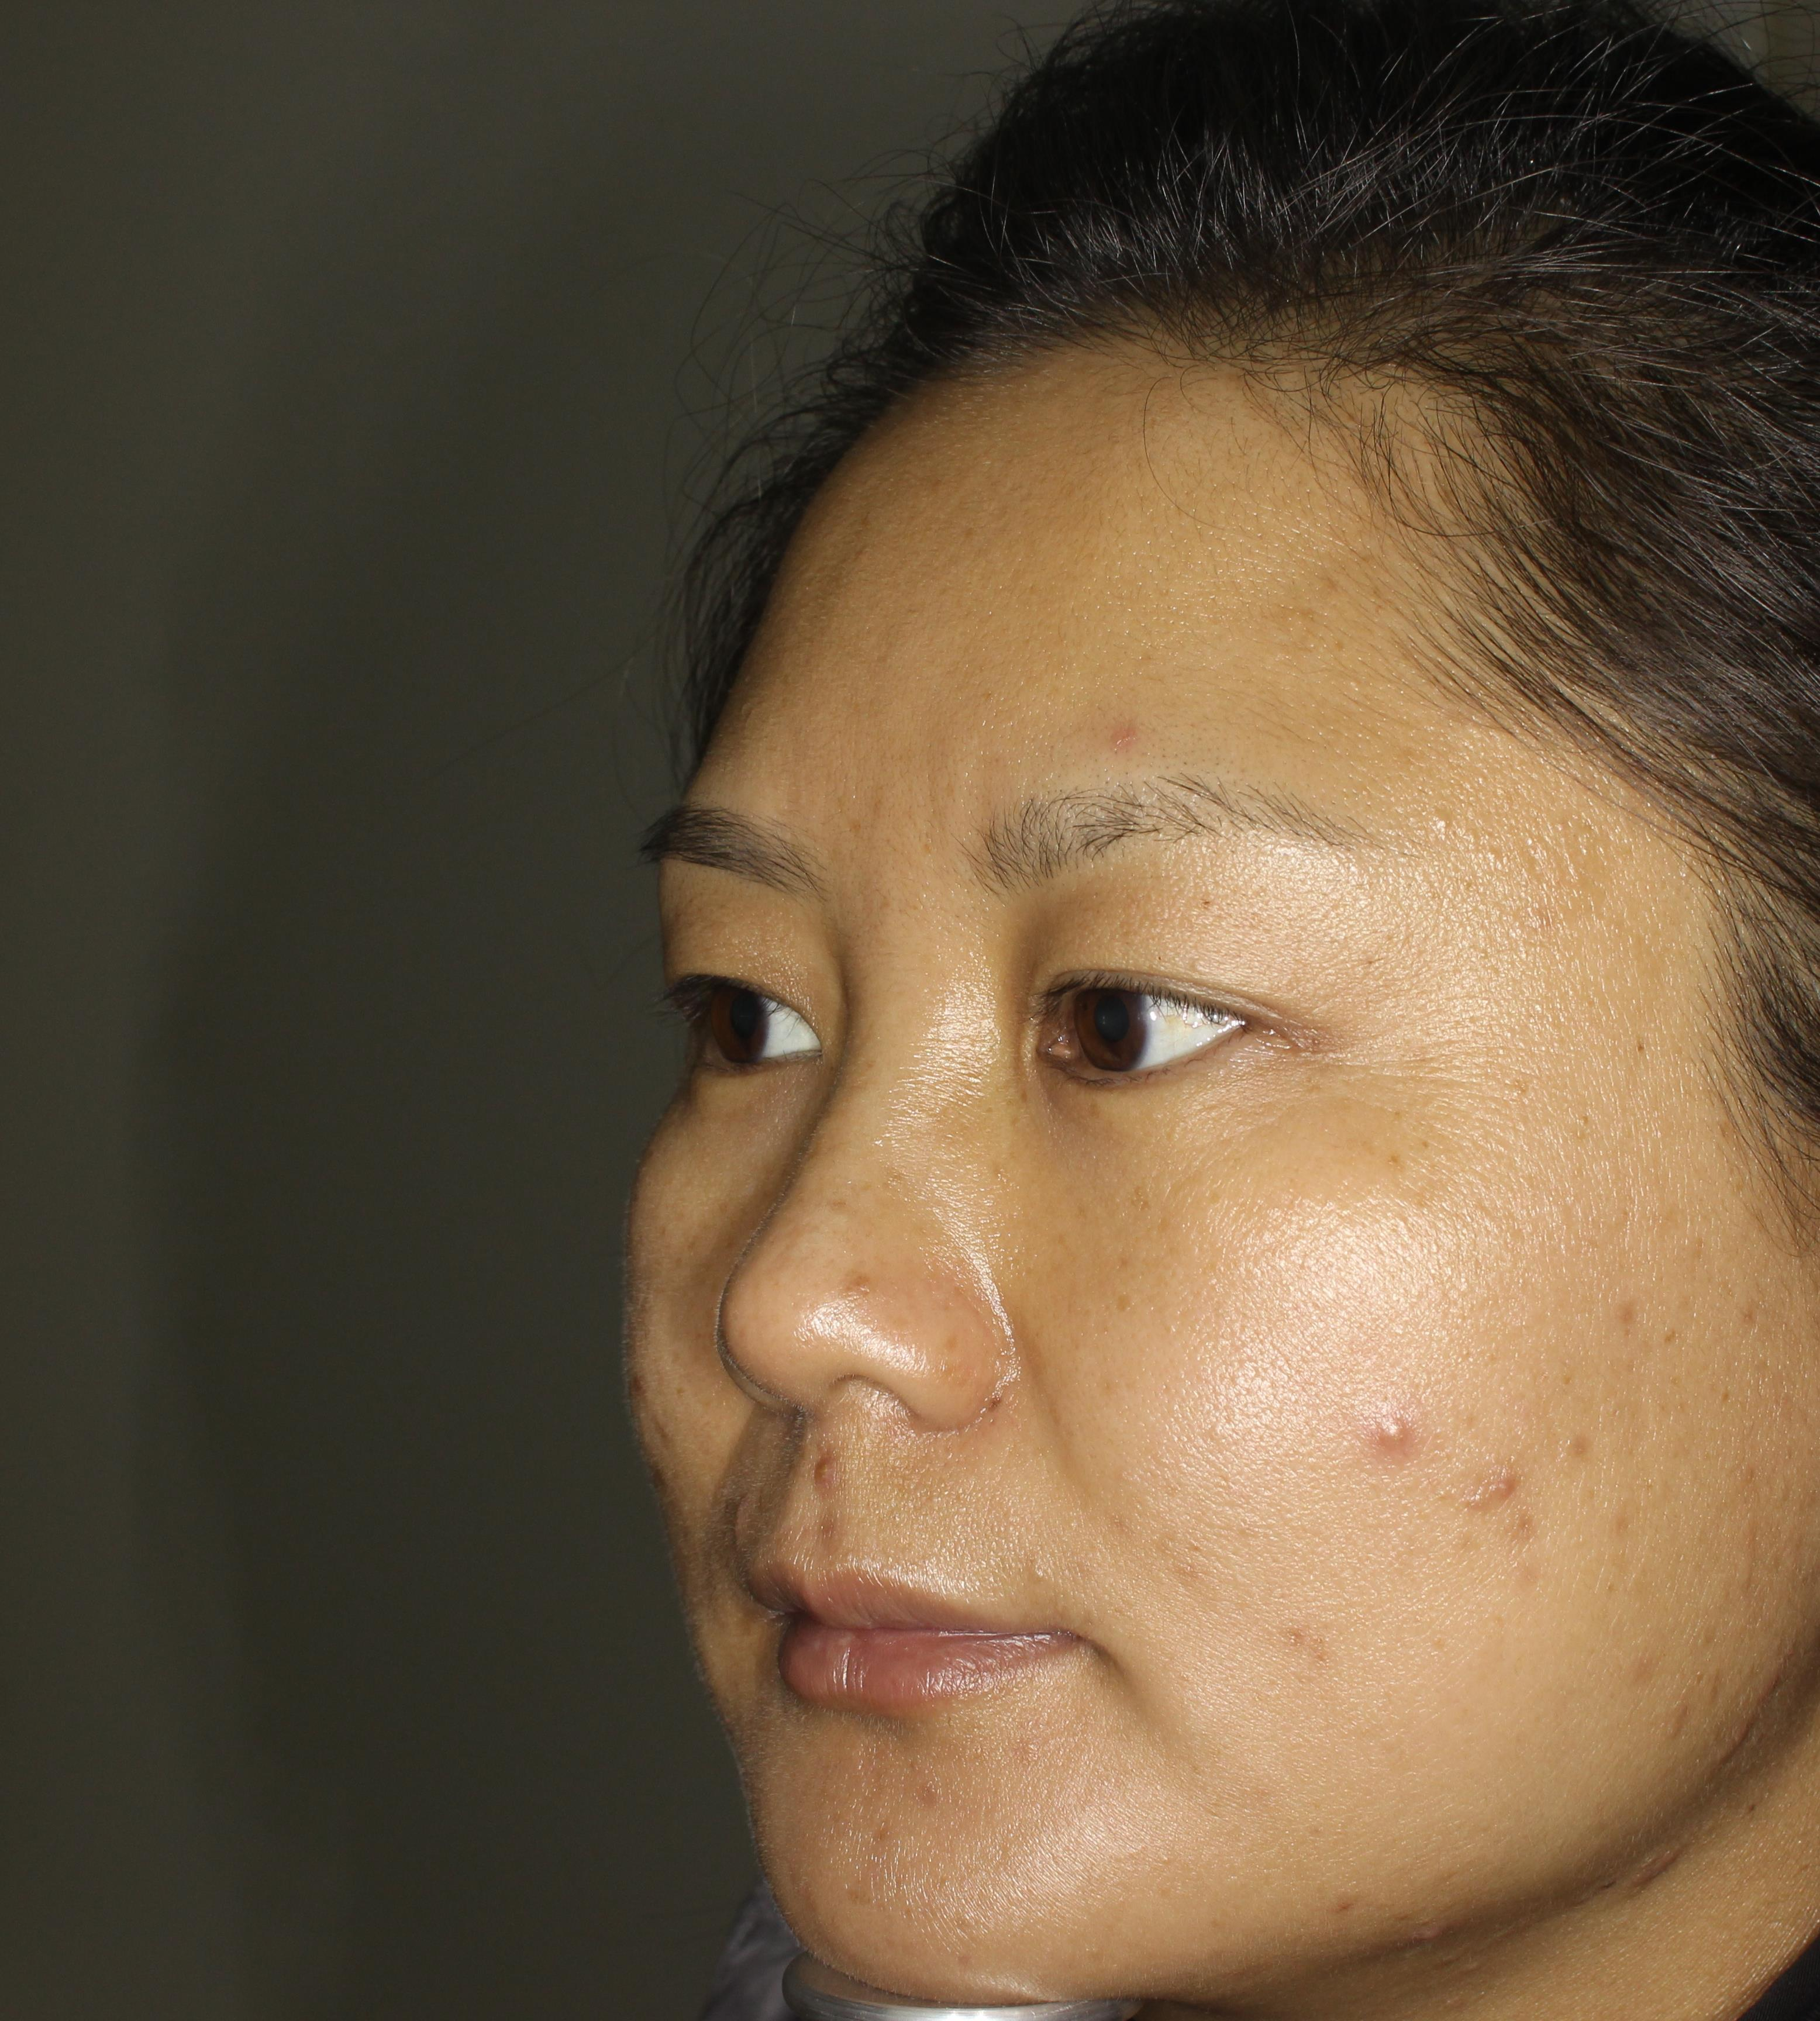fore: (1453, 1419, 1551, 1536), (1354, 1366, 1444, 1482)
